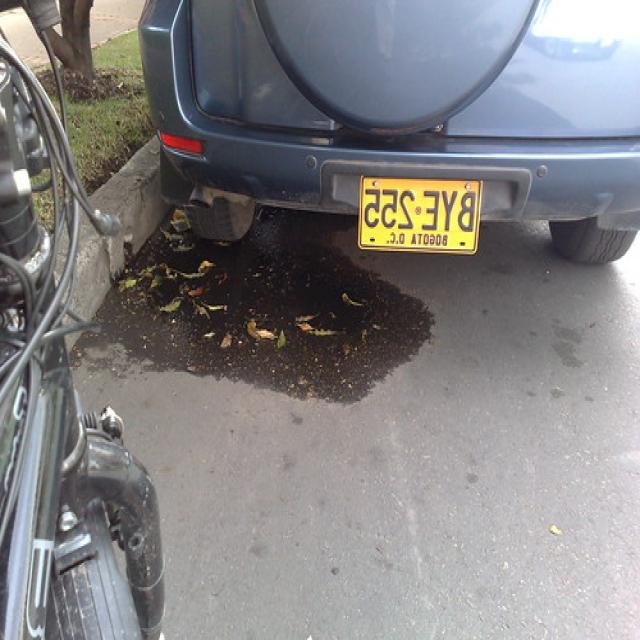placas: (361, 181, 477, 233)
